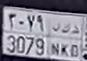0: (15, 14, 26, 54)
3: (5, 11, 16, 54)
7: (26, 14, 35, 55)
9: (33, 15, 45, 55)
D: (69, 23, 80, 59)
K: (60, 21, 70, 60)
N: (49, 21, 60, 58)
